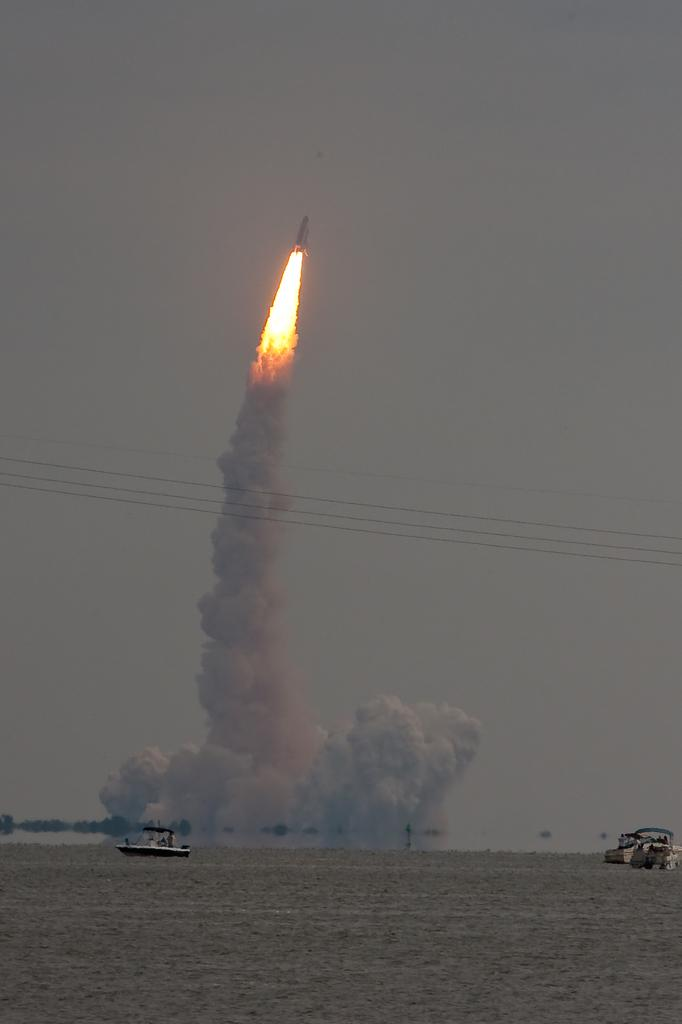Missile: (291, 213, 309, 255)
